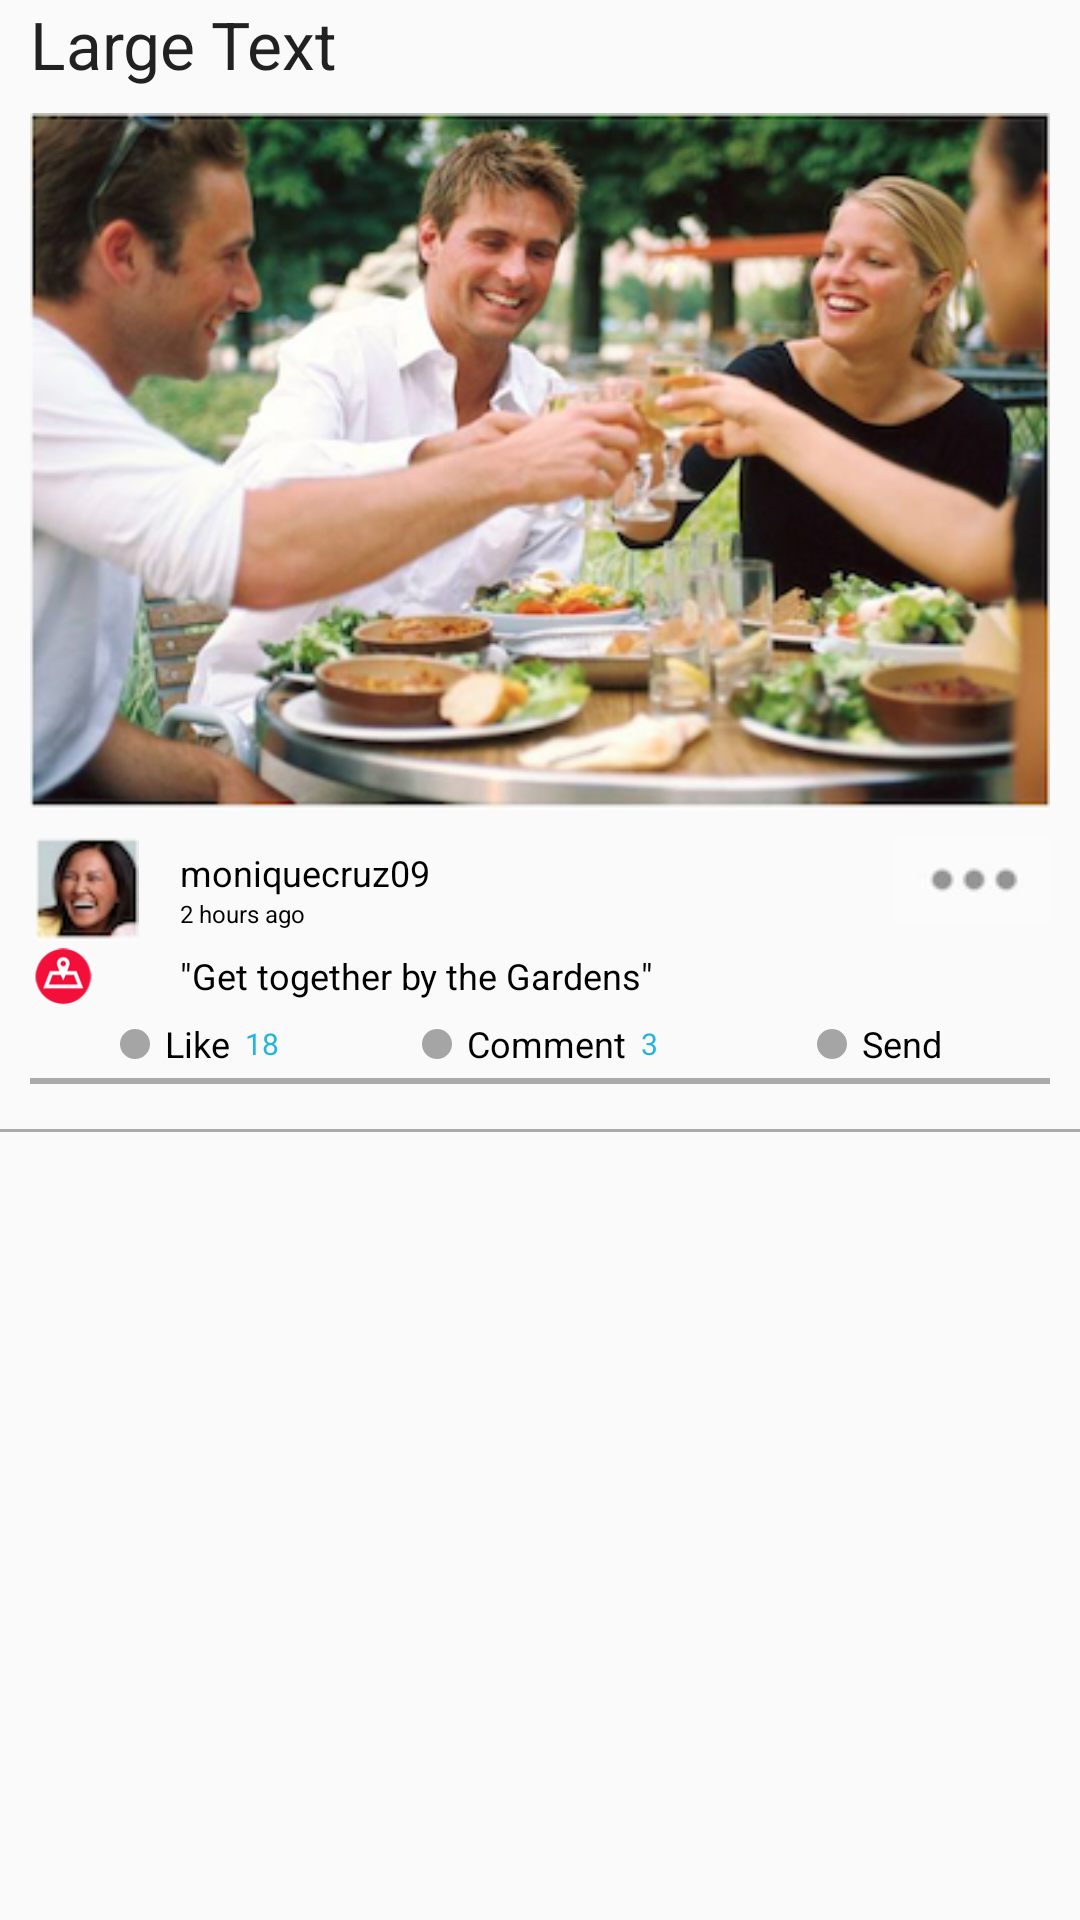

Point at icon controls on the screen. Image size 1080 x 1920, points as (x=x, y=y).
event menu: (x=974, y=880)
see map: (x=63, y=976)
